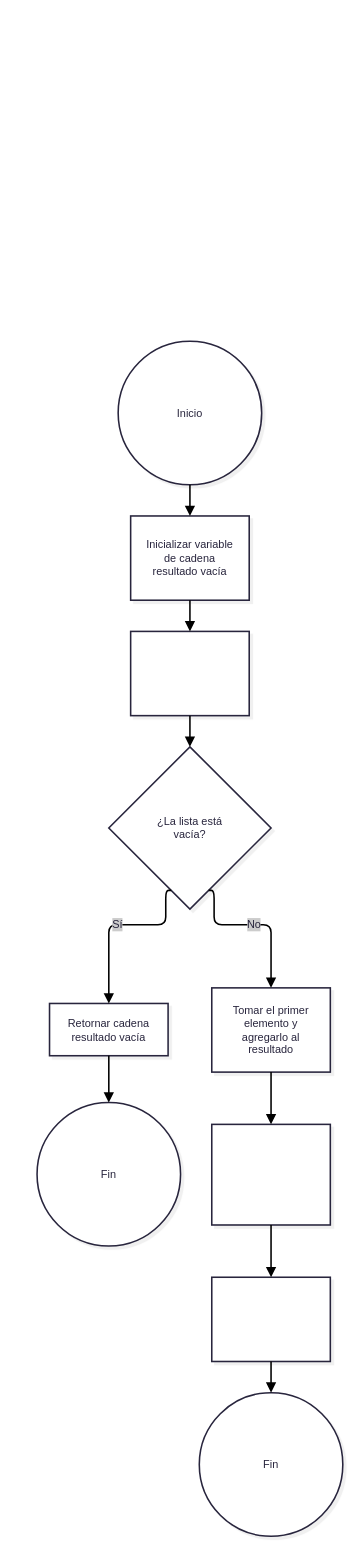
The diagram is 360 pixels wide and 1553 high, and some of its shapes have lost their labels. The shapes that lost their labels are listed below. From the top down, each one's centre as x and y in pixels, then its label:
At point (191, 674): "Evaluar si la lista de elementos está vacía".
At point (272, 1175): "Iterar desde el segundo elemento anteponiendo el separador".
At point (272, 1320): "Retornar la cadena resultado completa".
